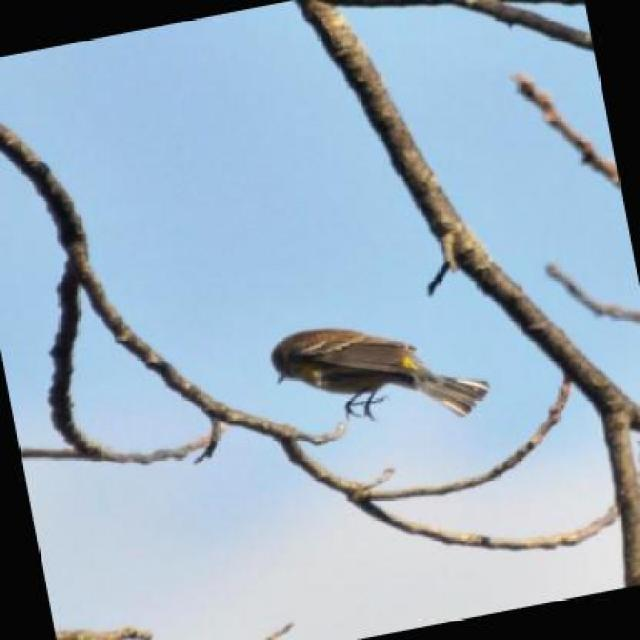Bird: (245, 315, 497, 426)
